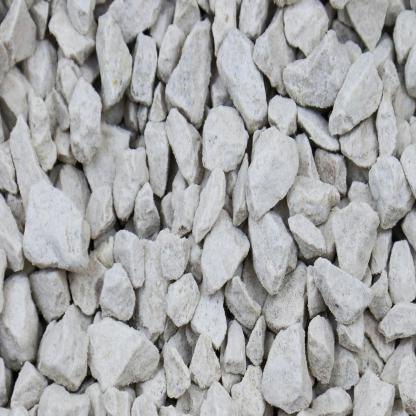Sedimentary_Limestone: (239, 122, 305, 224), (21, 179, 92, 271), (87, 316, 164, 384), (219, 26, 272, 124), (281, 43, 362, 105), (32, 299, 89, 387), (165, 18, 211, 127), (326, 55, 384, 134), (259, 318, 313, 400), (313, 254, 375, 322), (94, 9, 132, 110), (0, 277, 38, 374), (65, 78, 102, 172), (110, 144, 153, 220), (369, 152, 414, 224), (1, 0, 39, 78), (194, 159, 229, 240), (165, 111, 211, 171), (283, 1, 333, 54), (129, 26, 158, 105), (100, 267, 136, 328), (1, 192, 26, 279), (169, 267, 202, 332), (348, 0, 391, 48), (307, 311, 332, 392), (238, 0, 268, 42), (1, 252, 7, 314)
